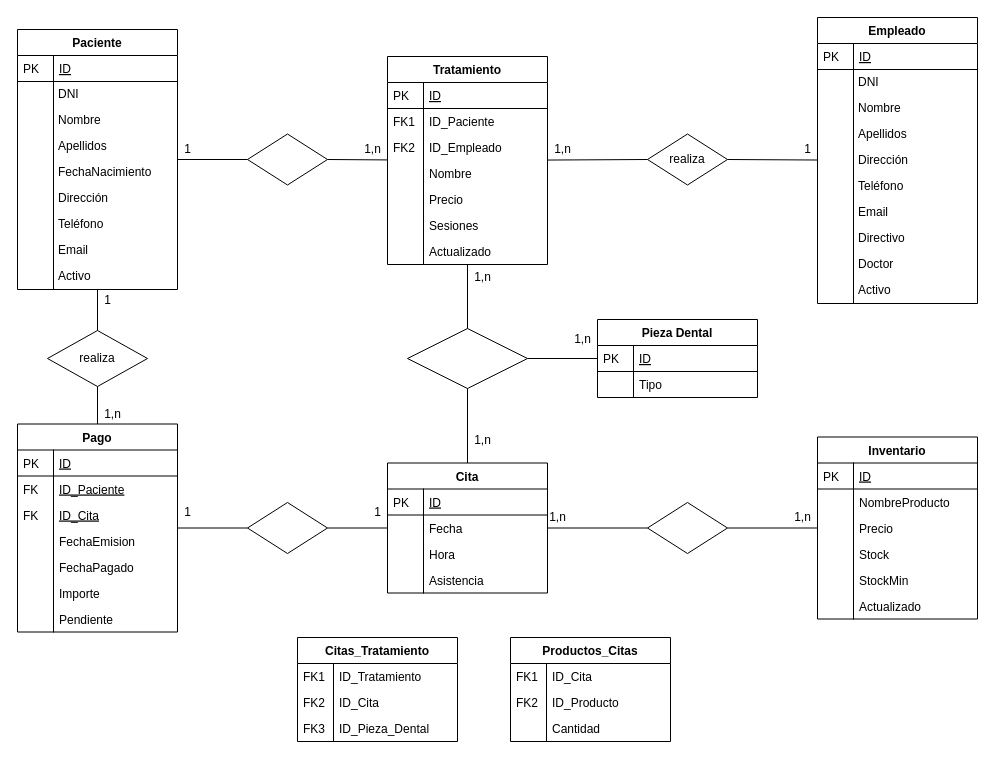
The diagram is 995 pixels wide and 762 high, and some of its shapes have lost their labels. Each missing label, with the centre of its shape:
"se compone" goes at (x=467, y=358).
"supone" goes at (x=287, y=528).
"tiene" goes at (x=287, y=159).
"utilliza" goes at (x=687, y=528).
